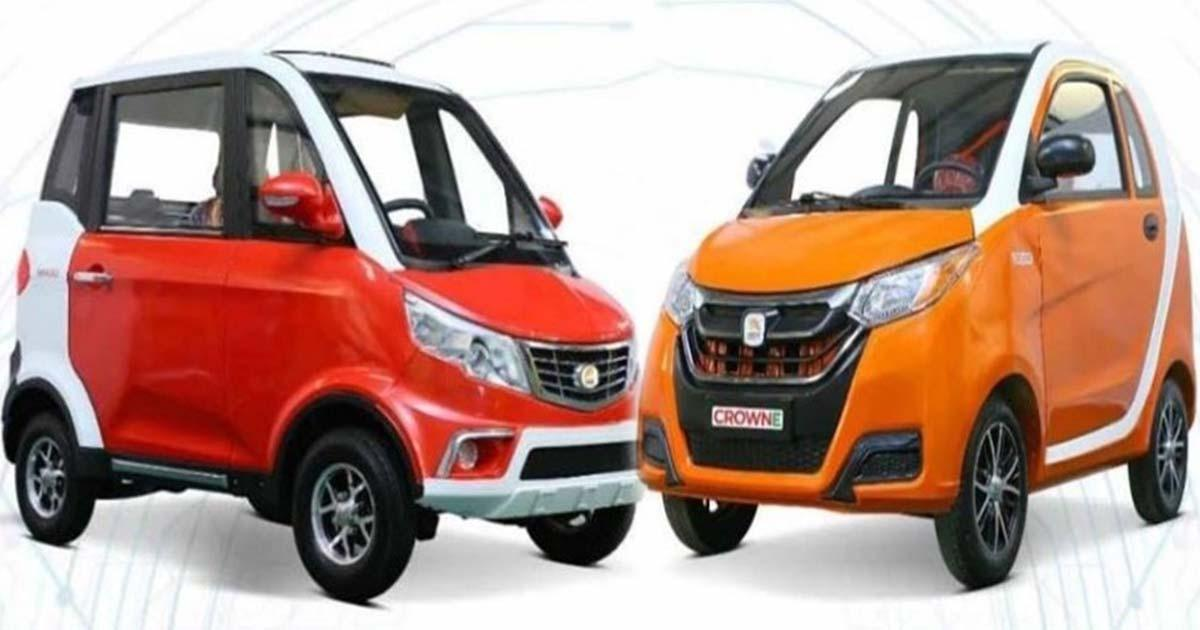windshield: (304, 72, 584, 272), (744, 55, 1042, 208)
